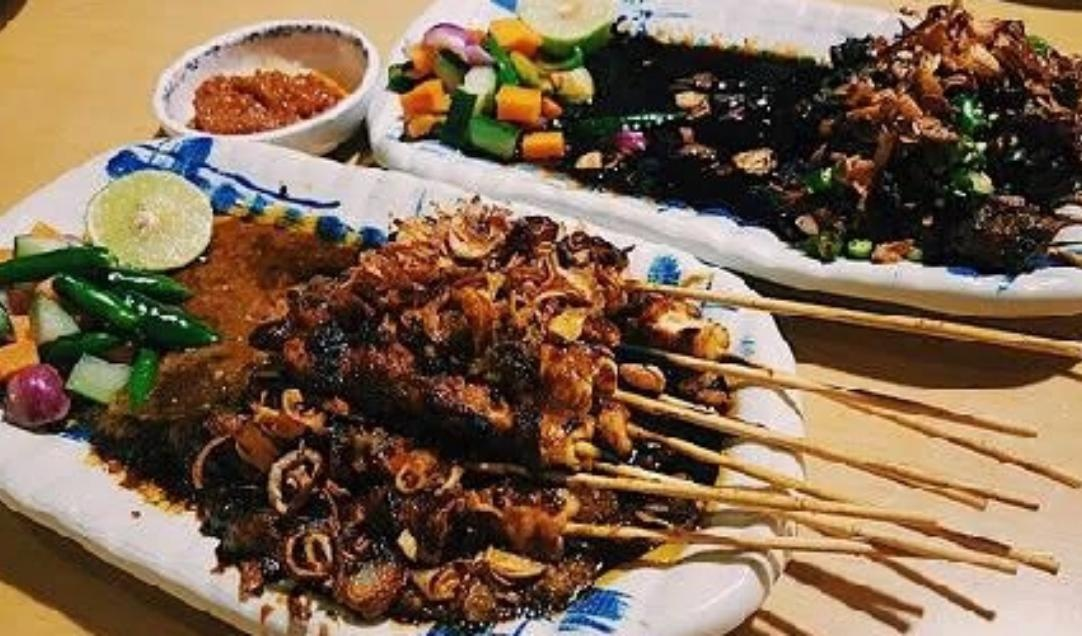sate_madura: (217, 221, 1082, 627)
